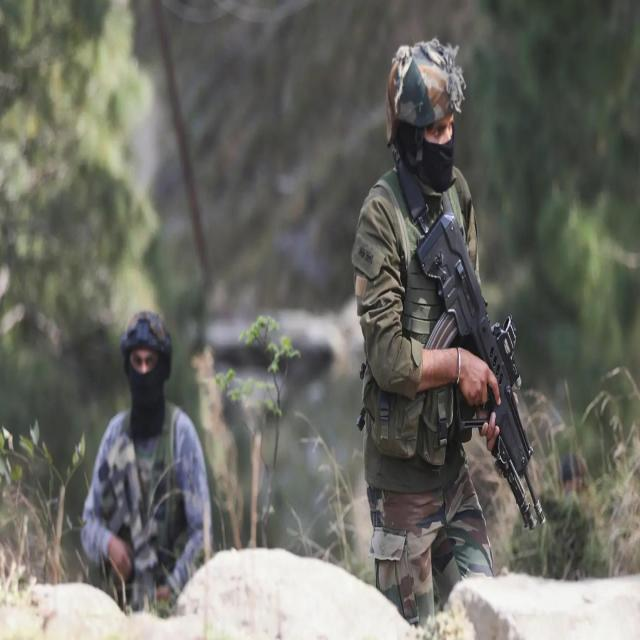Militant: (344, 16, 548, 622), (78, 309, 218, 603)
